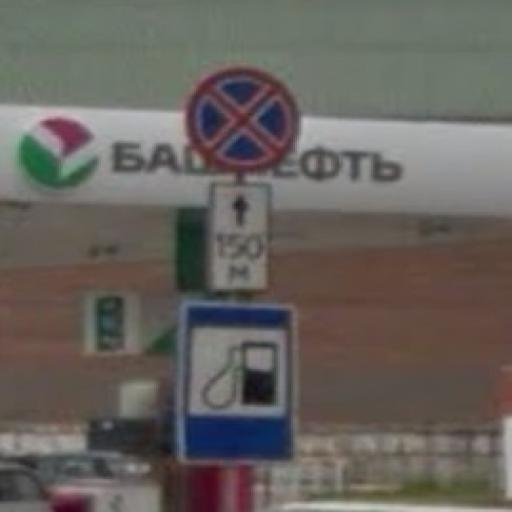traffic_sign: (178, 298, 302, 469), (186, 67, 302, 174)
